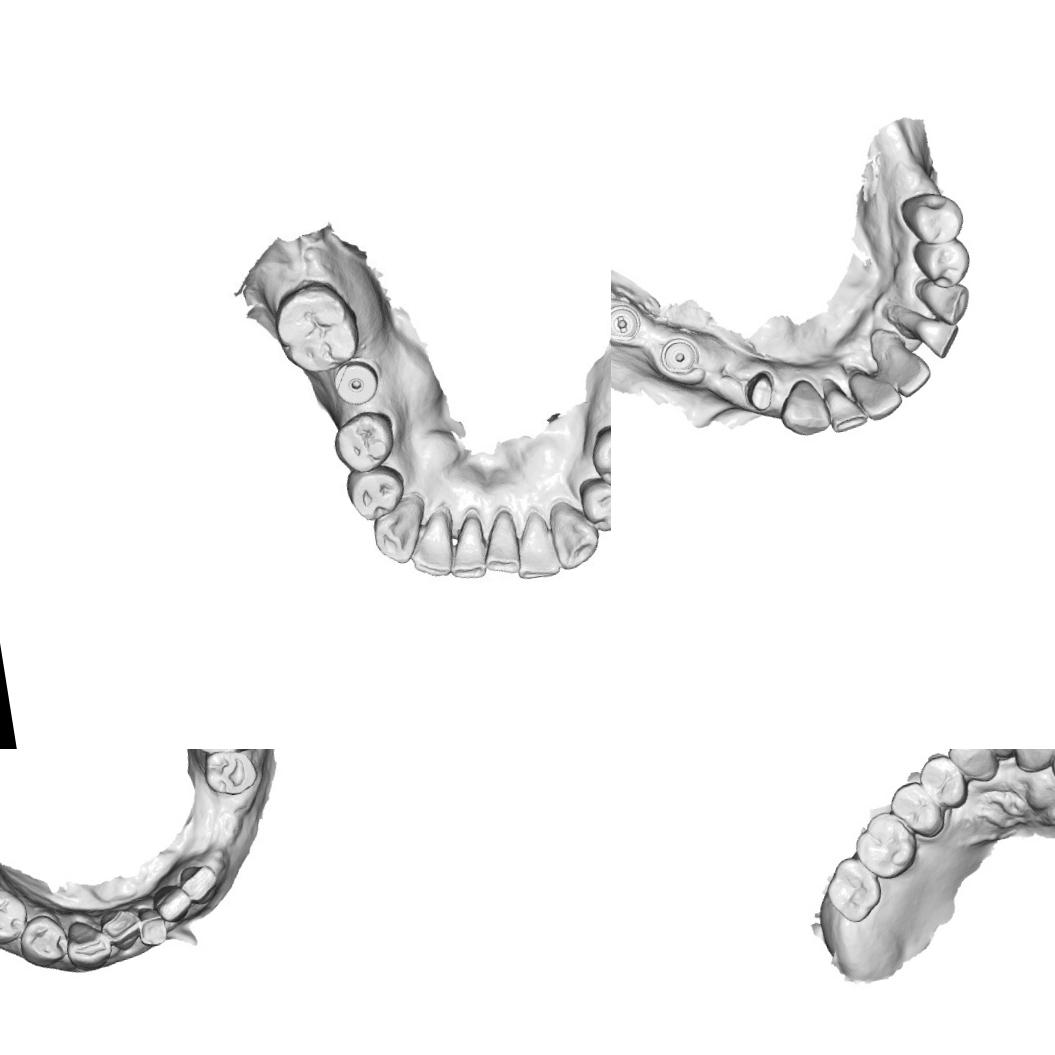canine: (543, 496, 603, 574), (370, 497, 426, 571), (773, 374, 832, 440), (911, 270, 974, 330), (60, 915, 118, 972), (943, 749, 1001, 786)
crown: (740, 368, 780, 414)
implant: (328, 356, 383, 407), (656, 334, 702, 380)
implant_minus: (611, 300, 644, 346)
incisor: (869, 326, 934, 402), (846, 364, 906, 424), (514, 512, 563, 582), (820, 372, 870, 434), (407, 512, 455, 576), (97, 898, 145, 955), (131, 895, 178, 952), (448, 514, 488, 574), (482, 514, 526, 568), (175, 859, 223, 908), (151, 879, 197, 928), (918, 315, 964, 361), (1009, 749, 1055, 775), (982, 749, 1022, 761)
molar: (265, 279, 362, 379), (850, 806, 922, 884), (821, 852, 886, 926)
premolar: (330, 406, 397, 476), (898, 188, 968, 250), (887, 778, 947, 844), (343, 464, 406, 526), (910, 234, 974, 292), (13, 910, 72, 972), (915, 751, 972, 814), (199, 749, 261, 801), (0, 882, 35, 951), (576, 468, 611, 536), (584, 421, 611, 490)
